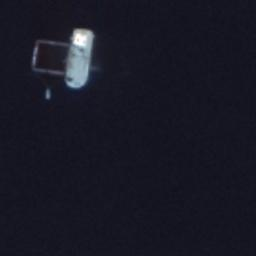square_solid: (27, 35, 82, 78)
